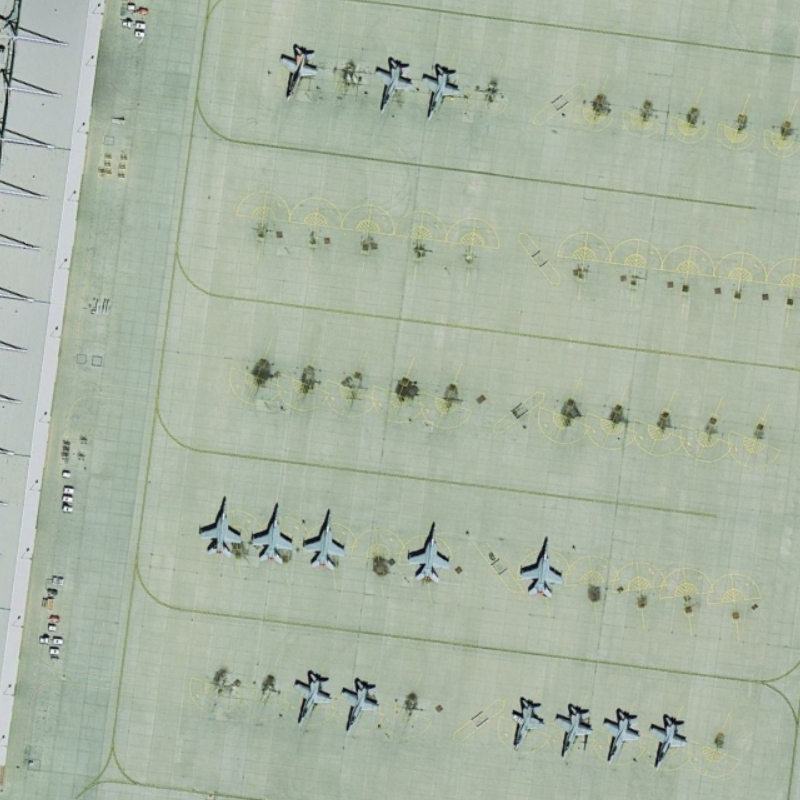A16: (403, 517, 453, 586), (517, 532, 566, 602), (248, 497, 296, 567), (196, 492, 245, 560), (301, 505, 348, 574), (368, 50, 417, 115), (275, 42, 325, 104), (600, 704, 643, 766), (553, 697, 594, 761), (647, 710, 690, 770), (291, 670, 334, 729), (421, 61, 462, 122), (340, 674, 380, 736), (509, 691, 546, 753)
